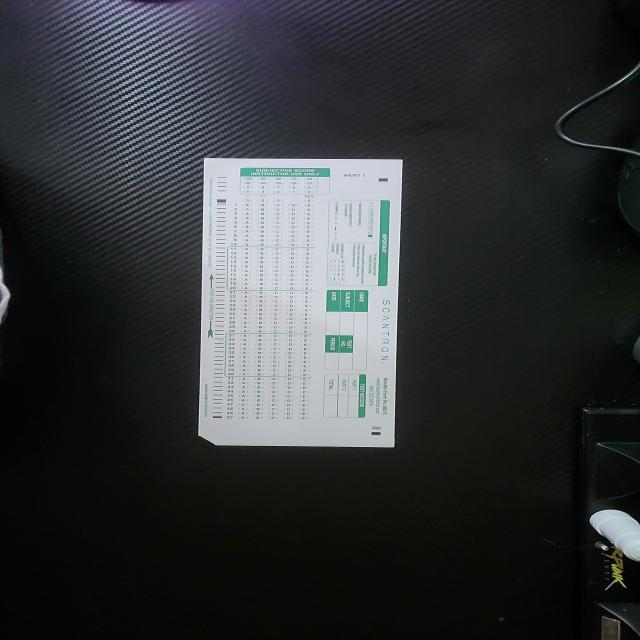scantron: (198, 158, 404, 447)
